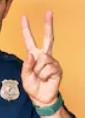front: (18, 8, 64, 108)
